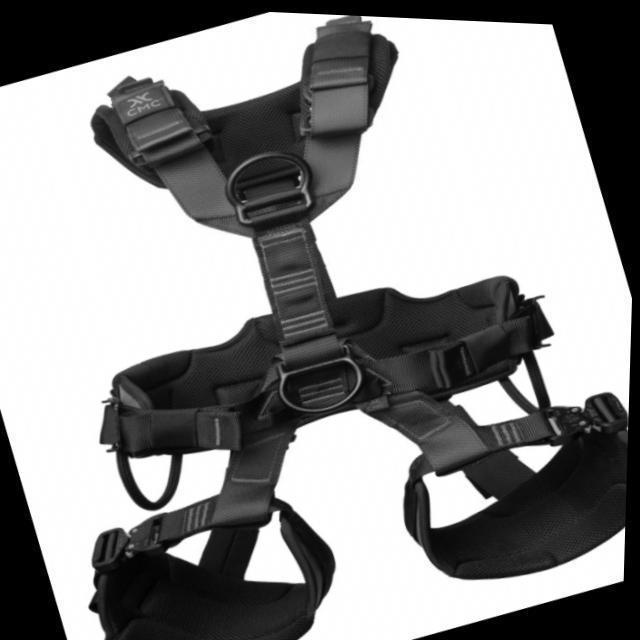Harness: (91, 17, 628, 640)
